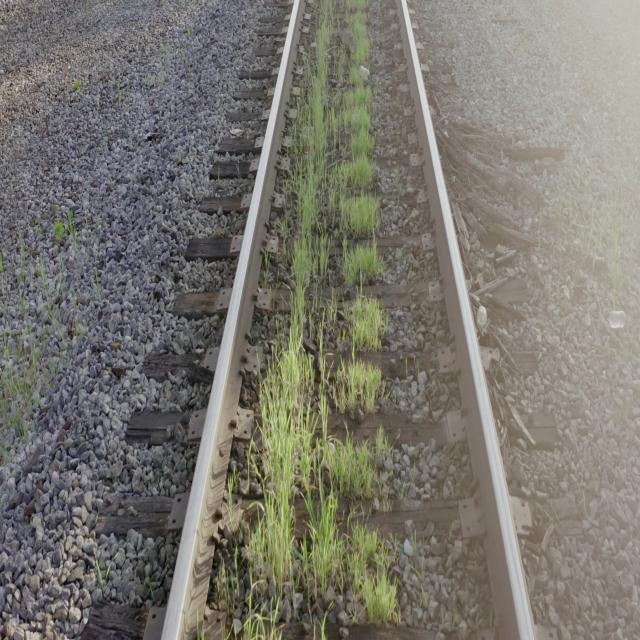Plant: (252, 0, 399, 631), (362, 571, 396, 622)
